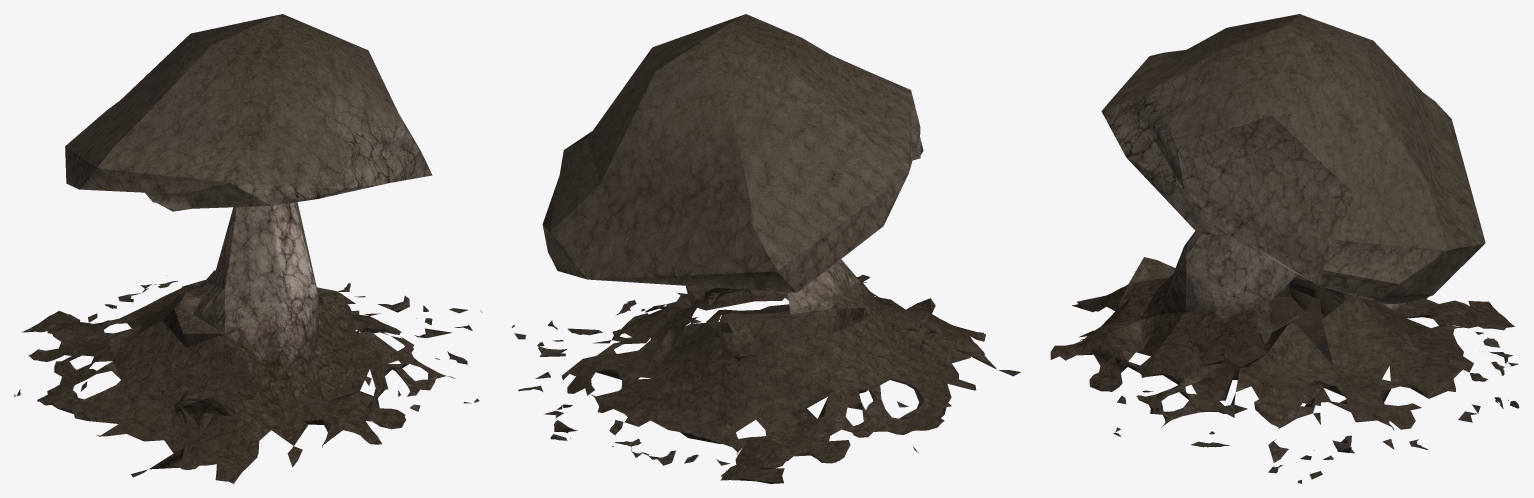
Rendered from m14-blightcap.glb.
The picture shows the model from 3 angles, left to right: view 1: azimuth 30°, elevation 25°; view 2: azimuth 150°, elevation 25°; view 3: azimuth 270°, elevation 25°; orthographic projection.
Visible parts, largest first — view 1: m14-blightcap.glb; view 2: m14-blightcap.glb; view 3: m14-blightcap.glb.
Part boxes in pixels (x1,y1,x2,y2): m14-blightcap.glb: (14,14,481,483); m14-blightcap.glb: (512,14,1020,483); m14-blightcap.glb: (1050,14,1519,483).
Bounding box in the file's own units: 1.69 × 1.3 × 1.55.
1 material, 1 textured.
